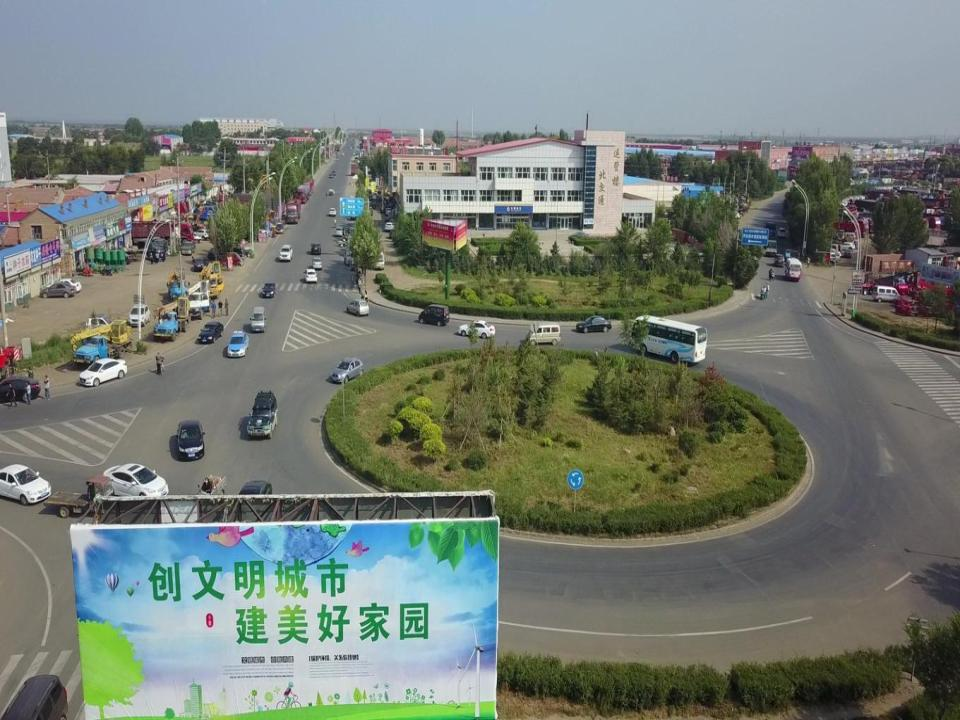bus: (630, 314, 708, 364), (784, 257, 802, 282)
car: (100, 461, 170, 503), (0, 462, 52, 505), (231, 479, 271, 527), (245, 390, 278, 440), (78, 357, 127, 387), (0, 372, 41, 404), (176, 419, 204, 462), (329, 355, 363, 385), (86, 313, 118, 337), (458, 319, 496, 339), (575, 315, 612, 334), (39, 282, 77, 298), (226, 331, 249, 357), (197, 321, 224, 343), (45, 278, 82, 294), (127, 304, 150, 328), (346, 298, 369, 318), (107, 250, 133, 266), (145, 244, 166, 262), (224, 245, 246, 260), (150, 238, 167, 257), (279, 243, 293, 262), (261, 282, 277, 298), (302, 268, 318, 284), (192, 228, 213, 240), (206, 246, 222, 260), (181, 241, 196, 255), (194, 256, 206, 272), (311, 257, 323, 270), (774, 253, 784, 268), (310, 242, 321, 255), (274, 222, 284, 234), (843, 248, 853, 259), (334, 227, 344, 237), (384, 222, 394, 231), (328, 207, 337, 217), (778, 228, 786, 238), (385, 208, 392, 215), (329, 173, 333, 178), (332, 170, 336, 175)
truck: (131, 219, 194, 246), (286, 198, 301, 224), (763, 221, 776, 242), (762, 238, 776, 257), (297, 184, 310, 204), (304, 178, 314, 195), (328, 188, 334, 196)
van: (0, 673, 68, 720), (526, 323, 561, 346), (416, 304, 450, 326), (872, 286, 901, 303), (250, 306, 266, 333), (220, 252, 244, 266), (373, 250, 384, 270), (820, 250, 835, 264)
